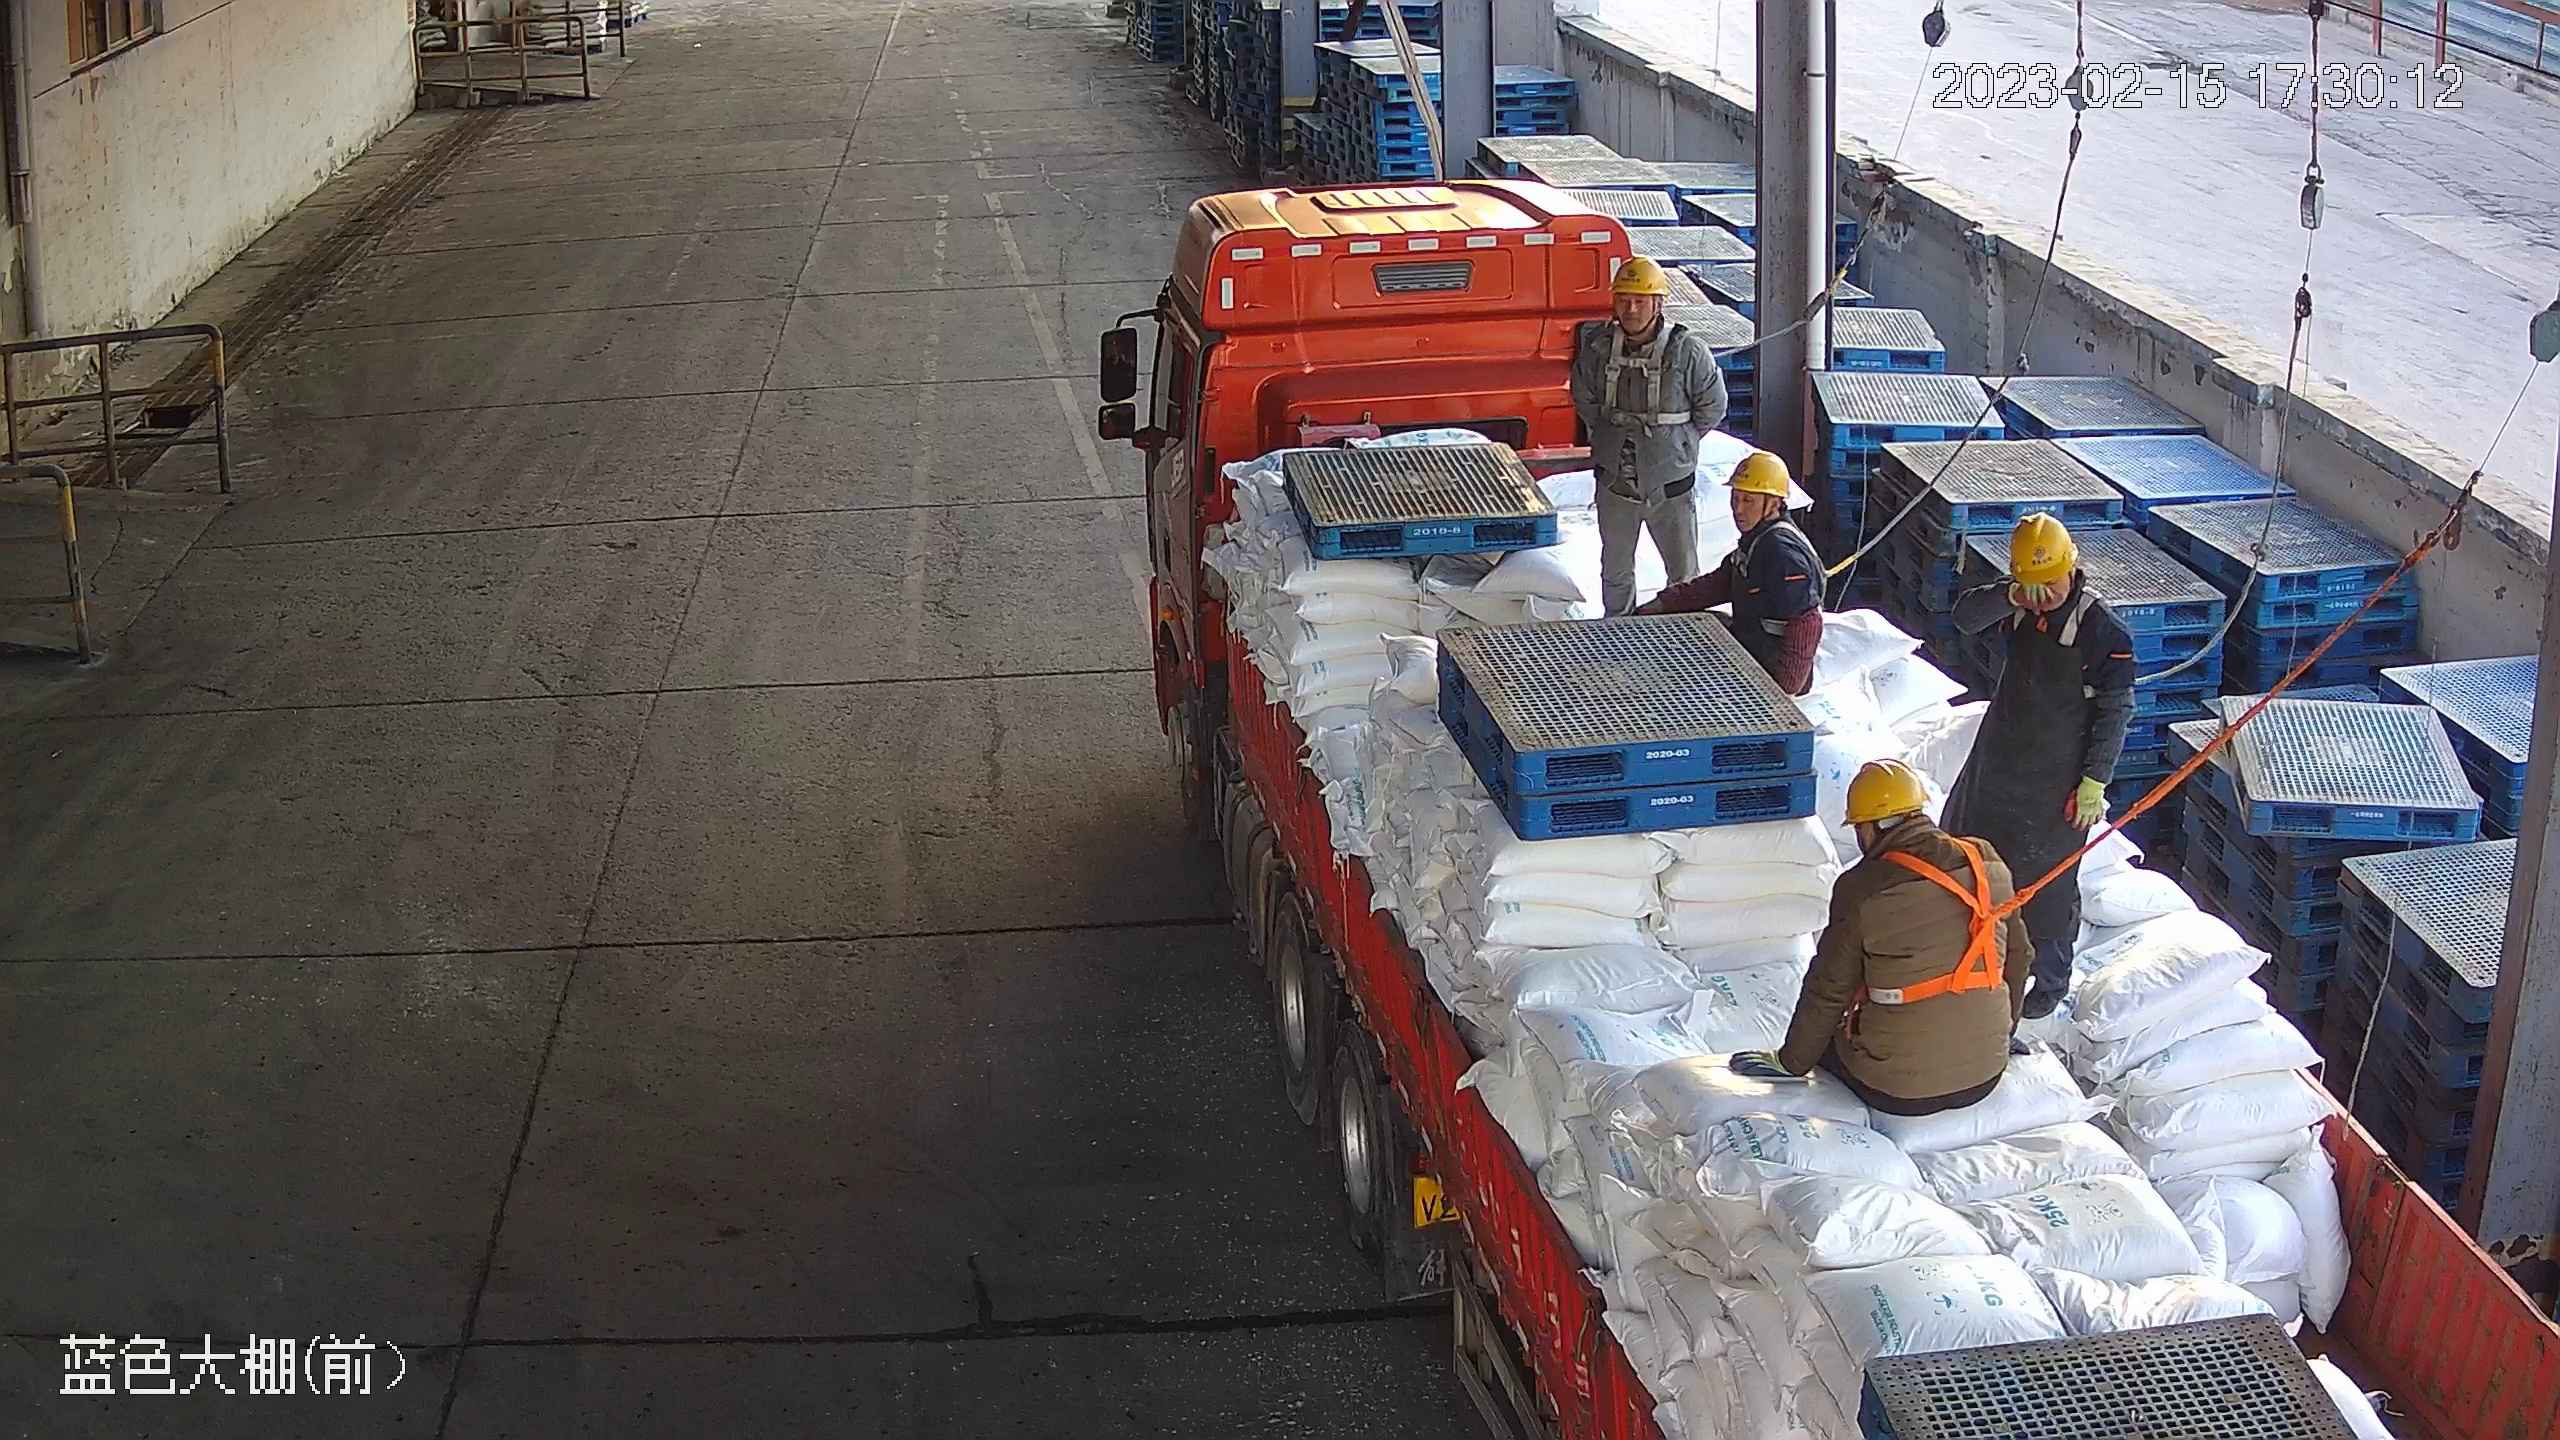belt: (1854, 833, 2059, 1009), (2006, 584, 2166, 711), (1726, 521, 1869, 637), (1593, 319, 1734, 429)
head: (1828, 757, 2019, 901), (1954, 511, 2135, 652), (1580, 255, 1715, 362), (1721, 450, 1827, 579)
helmet: (1839, 757, 1932, 828), (2008, 510, 2080, 584), (1722, 451, 1792, 499), (1611, 255, 1669, 297)
people: (1726, 757, 2040, 1118), (1938, 512, 2139, 1018), (1565, 254, 1730, 621), (1631, 450, 1830, 699)
truck: (1141, 175, 2560, 1440)
